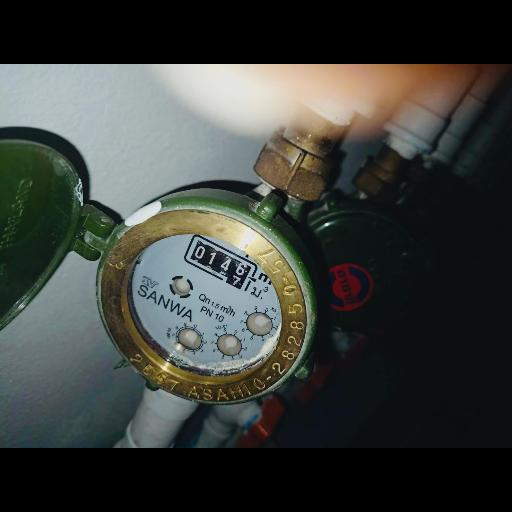0: (190, 240, 211, 264)
1: (202, 246, 223, 270)
4: (213, 253, 236, 278)
6: (224, 259, 252, 290)
border_water_meter_number: (181, 233, 260, 293)
